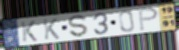0: (118, 9, 136, 33)
3: (92, 11, 110, 36)
K: (42, 17, 61, 41), (20, 20, 39, 43)
P: (137, 7, 159, 32)
S: (67, 14, 89, 38)
